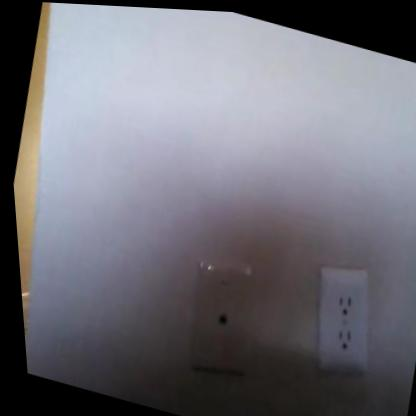OUTLET: (296, 257, 392, 384)
